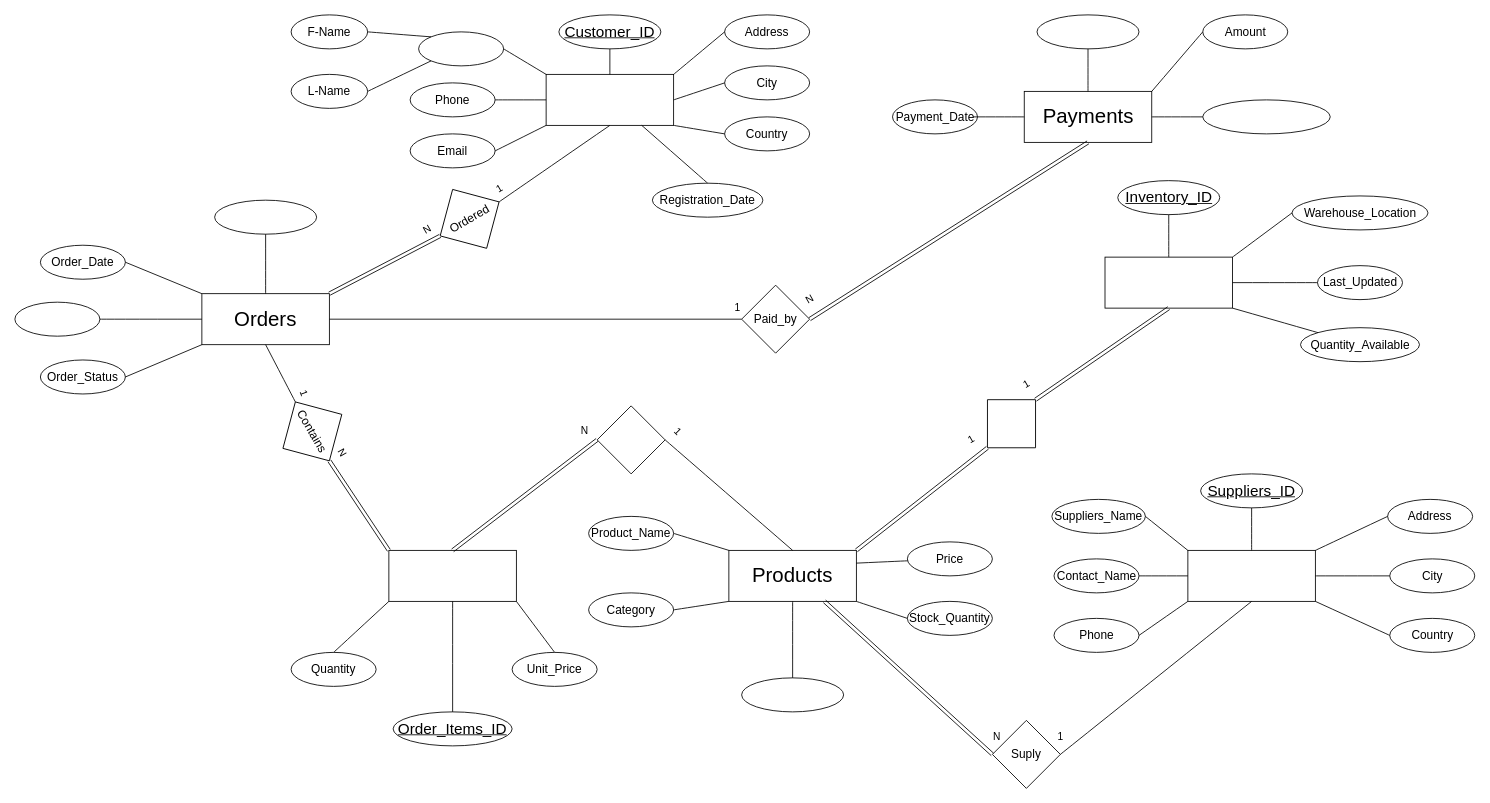
Image size: 1490x803. Some labels were removed from this diagram. Here are the shapes that lost their labels. From the top down, the centre of each, then its label:
At (461,48): "Name".
At (1087,31): "Payment_ID".
At (609,99): "Customers".
At (1266,116): "Payment_Method".
At (265,216): "Order_ID".
At (1168,282): "Inventory".
At (57,318): "Total_Amount".
At (630,439): "Part_Of".
At (1011,423): "Stored".
At (452,575): "Order_Items".
At (1251,575): "Suppliers".
At (792,694): "Product_ID".
